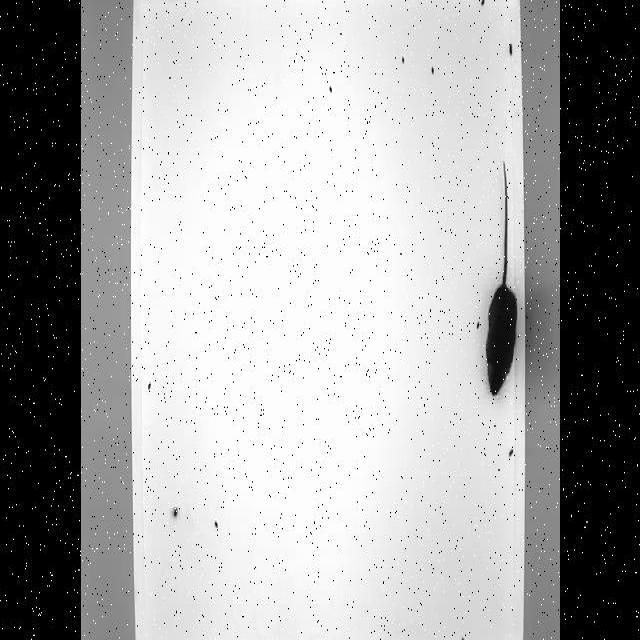rat: (482, 161, 520, 399)
